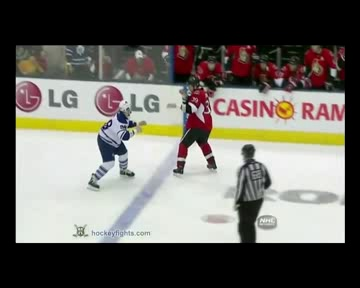normal: (79, 86, 150, 198), (163, 71, 220, 178), (230, 142, 274, 242)
